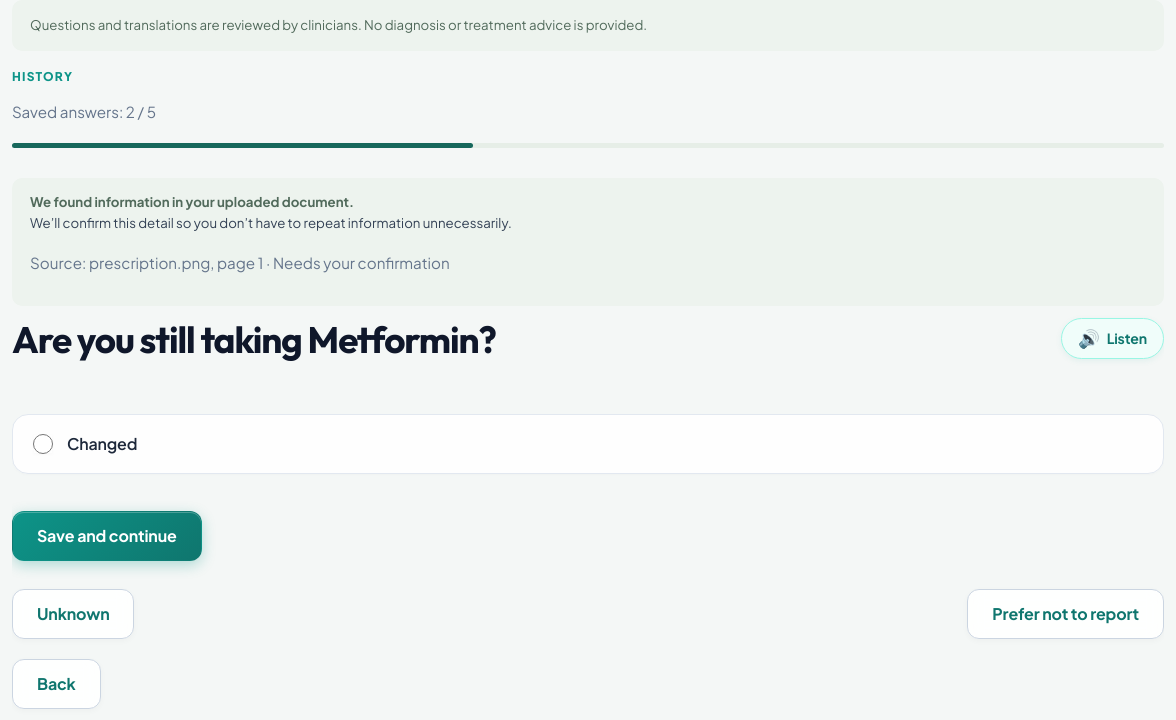
it: does not show covered-history success for a changed document response
The width and height of the screenshot is (1176, 720).
Click the radio button labelled "Changed". click: (43, 444)
box: [33,434,53,454]
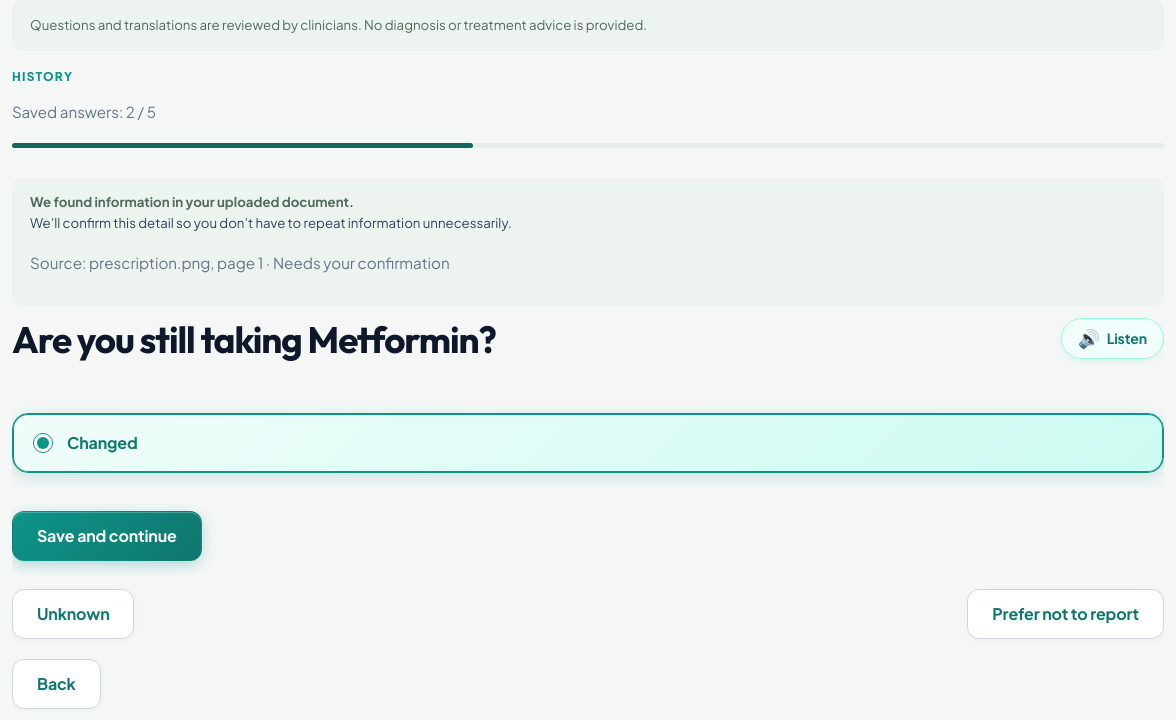
Click the button "Save and continue". click: (107, 536)
box: [12,511,202,561]
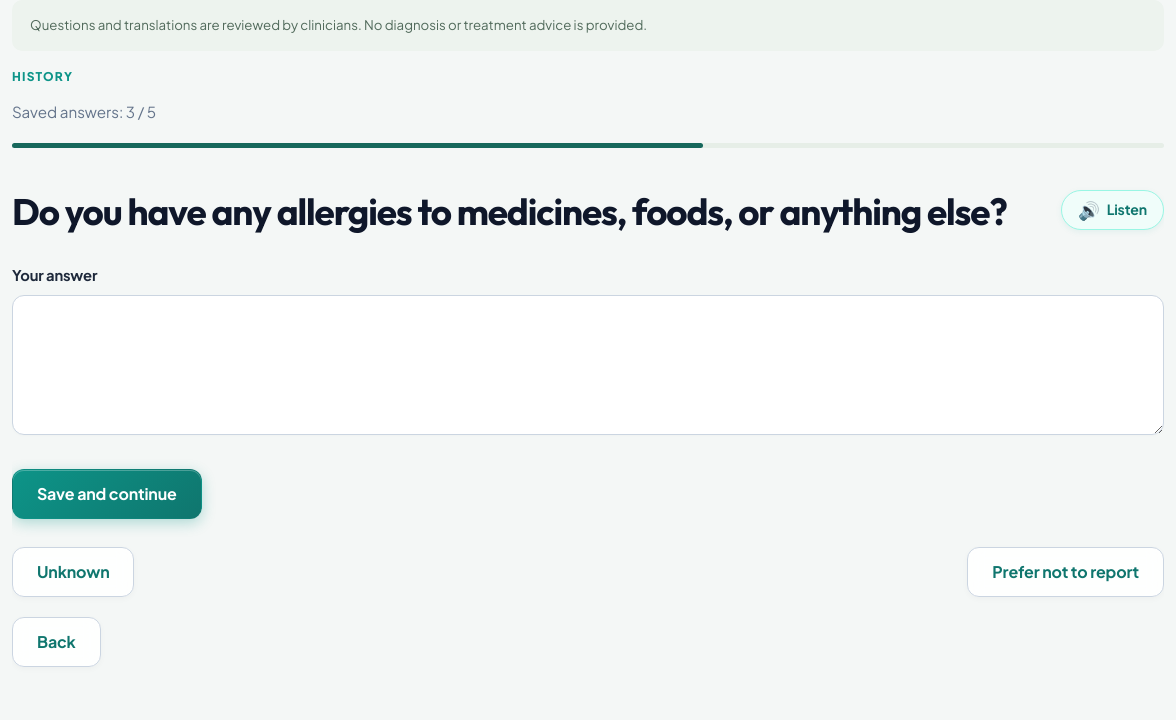
Expected: the heading "Do you have any allergies to medicines, foods, or anything else?" is shown, [12,190,1045,234]
